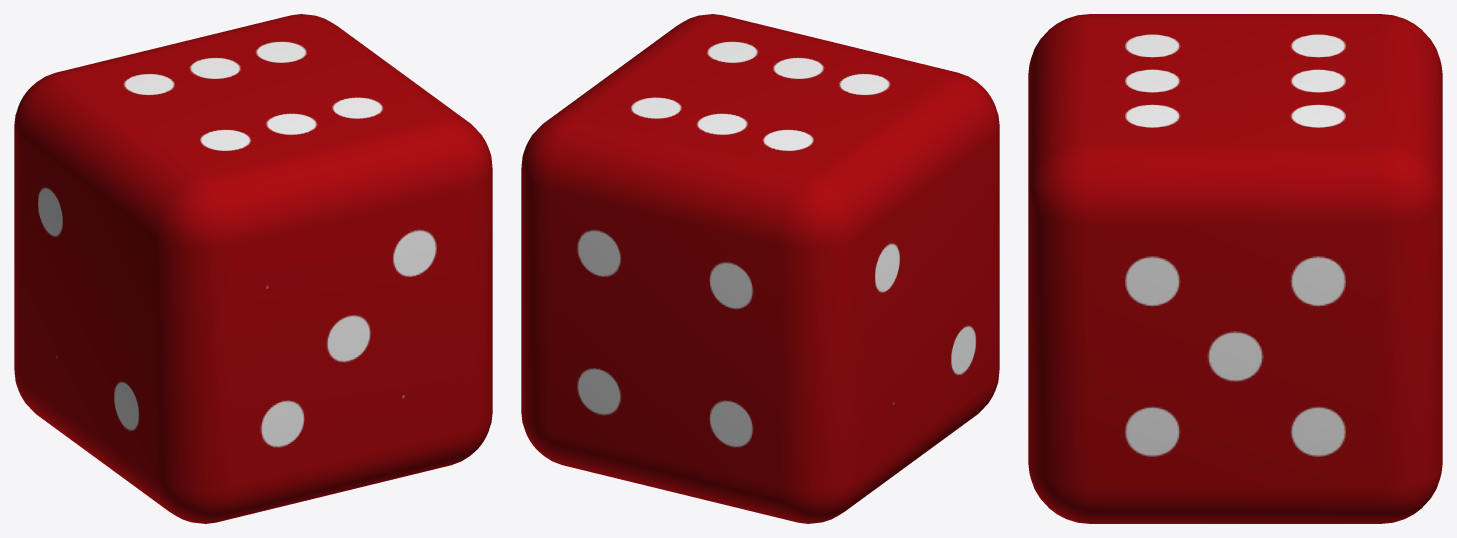
Rendered from dice_model.glb.
The picture shows the model from 3 angles, left to right: view 1: azimuth 30°, elevation 25°; view 2: azimuth 150°, elevation 25°; view 3: azimuth 270°, elevation 25°; orthographic projection. The views are drawn at different scales.
Parts seen in each view (by area): view 1: Cube.001; view 2: Cube.001; view 3: Cube.001.
Boxes of the visible parts, box(x1,y1,x2,y2) form: Cube.001: box(14, 14, 492, 523); Cube.001: box(521, 14, 999, 523); Cube.001: box(1028, 14, 1442, 523).
Size of the model in its own units: 2 by 2 by 2.
1 material, 1 textured.
